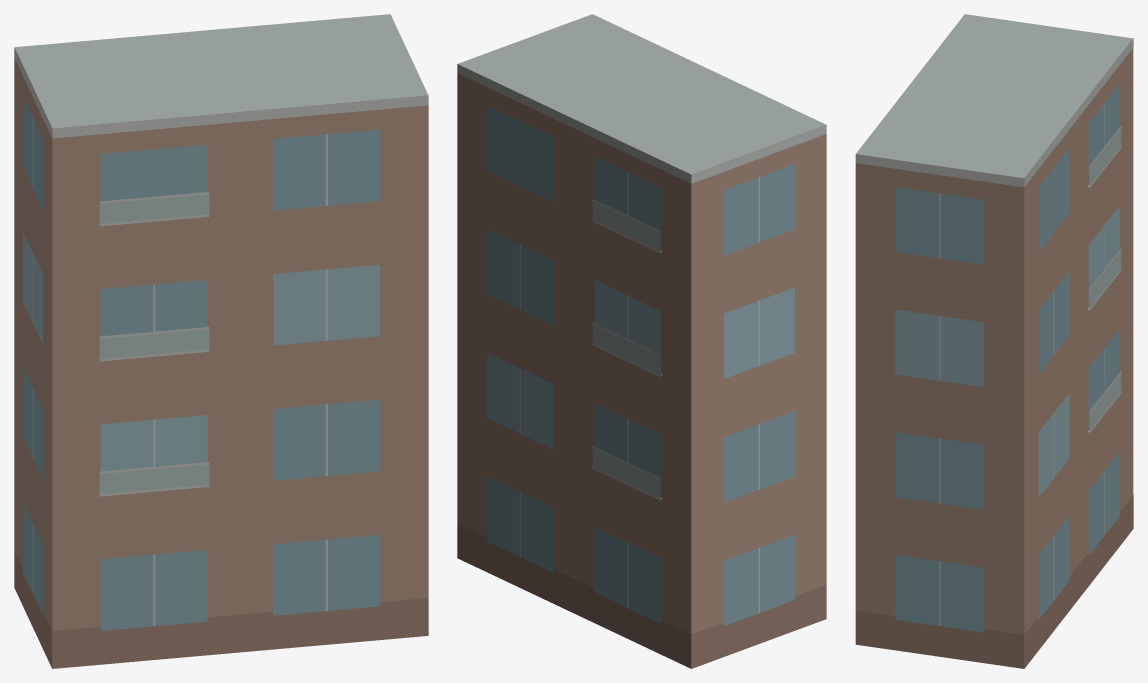
The model's file is survey-upis-32999379.glb.
3 renders of one model, left to right at view 1: azimuth 30°, elevation 25°; view 2: azimuth 150°, elevation 25°; view 3: azimuth 270°, elevation 25°, orthographic. The views are drawn at different scales.
Parts seen in each view (by area): view 1: survey-upis-32999379.tmp; view 2: survey-upis-32999379.tmp; view 3: survey-upis-32999379.tmp.
Part boxes in pixels (box(x1,y1,x2,y2)): survey-upis-32999379.tmp: box(14, 14, 428, 668); survey-upis-32999379.tmp: box(457, 14, 826, 668); survey-upis-32999379.tmp: box(855, 14, 1133, 668).
Size of the model in its own units: 9.49 by 13.2 by 6.78.
